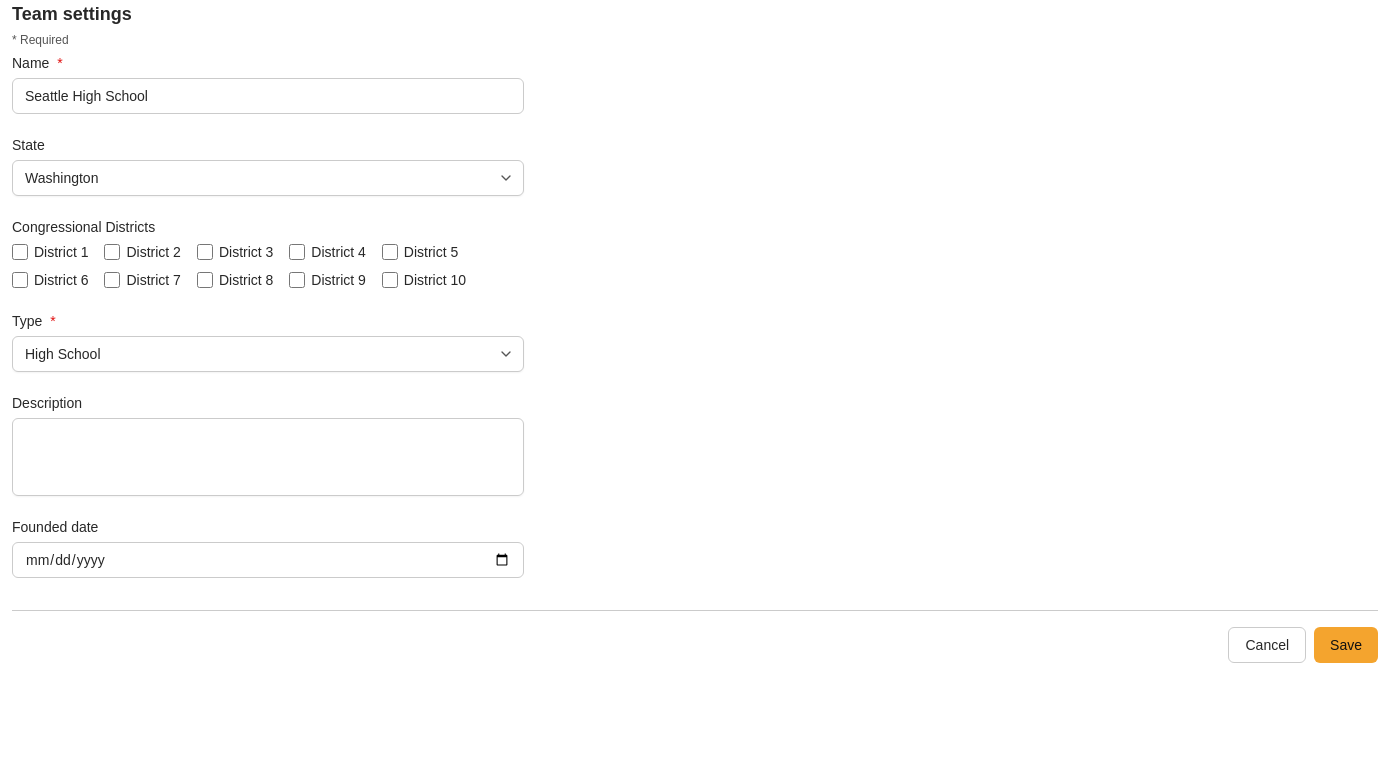
Test: TeamForm — edit mode › shows a save error when the update fails
What coordinates should you click on to do the following:
click the button "Save"
I would click on:
 (1346, 645)
Its box is [1314, 627, 1378, 663].
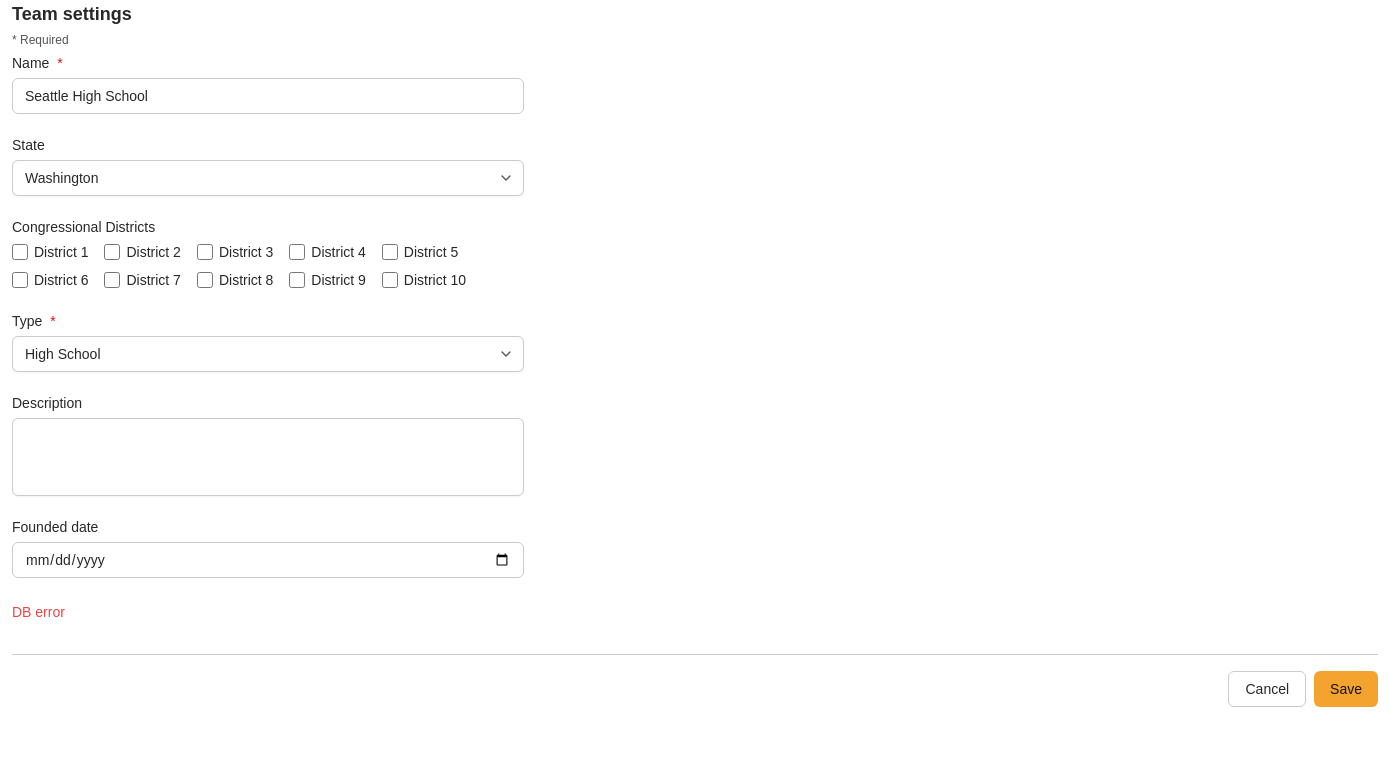
Expected: the text "DB error" is shown, [12, 604, 65, 620]
